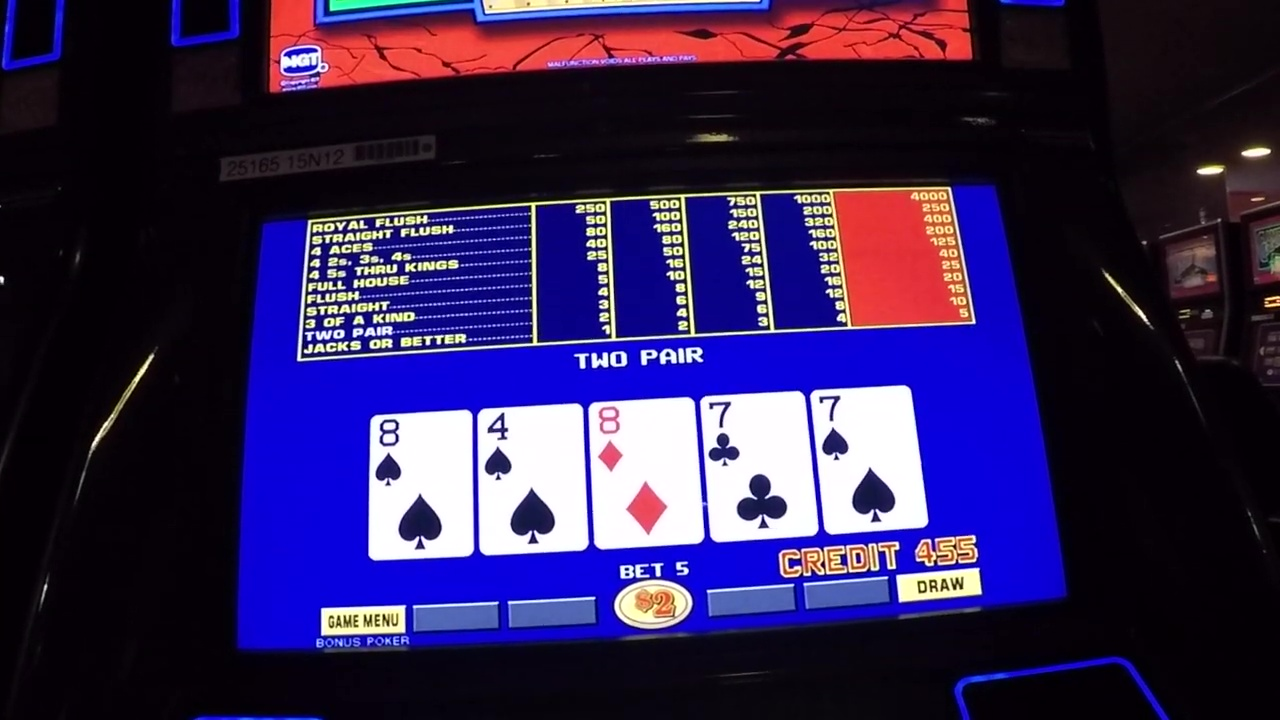C7: (707, 394, 802, 472)
D8: (597, 401, 694, 477)
S4: (480, 409, 580, 482)
S7: (819, 394, 909, 462)
S8: (375, 417, 468, 485)
